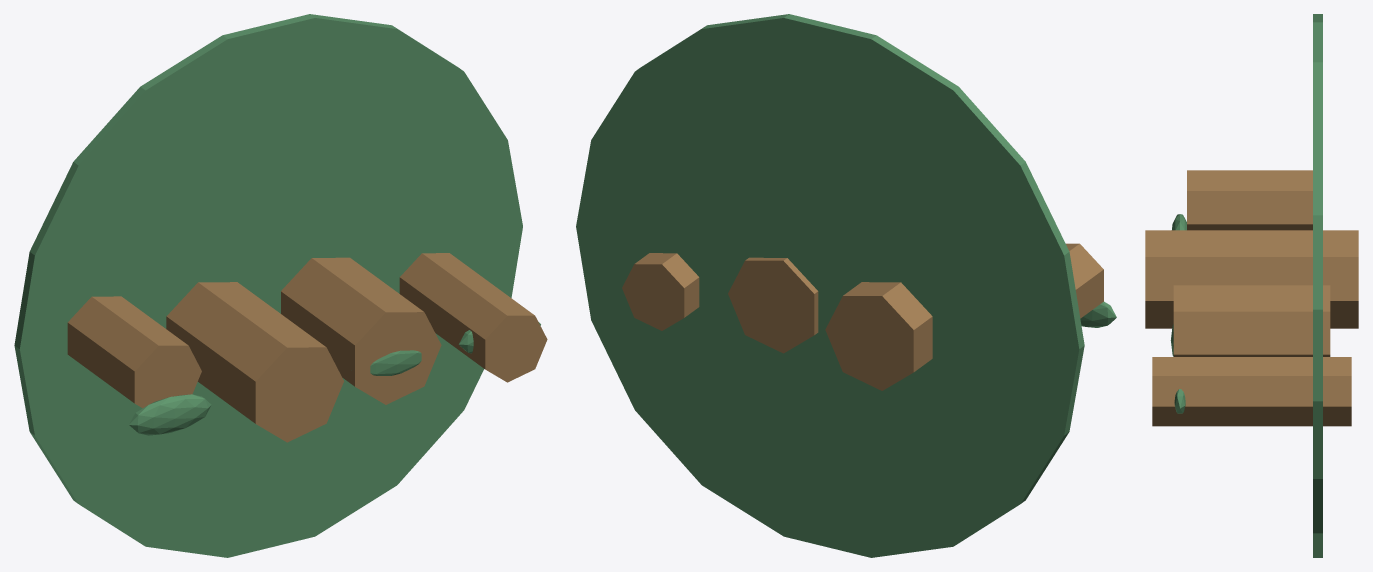
Rendered from 02_local_prop_cluster.glb.
The picture shows the model from 3 angles, left to right: view 1: azimuth 30°, elevation 25°; view 2: azimuth 150°, elevation 25°; view 3: azimuth 270°, elevation 25°; orthographic projection. The views are drawn at different scales.
Parts seen in each view (by area): view 1: scatter_base, root_stump_1, root_stump_2, root_stump_3, root_stump_0, moss_0, moss_2; view 2: scatter_base, root_stump_1, root_stump_2, root_stump_3, root_stump_0; view 3: root_stump_1, root_stump_3, root_stump_2, root_stump_0, scatter_base.
Part boxes in pixels (box(x1,y1,x2,y2)): scatter_base: box(14, 14, 522, 557); root_stump_1: box(166, 282, 343, 442); root_stump_2: box(281, 257, 441, 404); root_stump_3: box(399, 253, 547, 382); root_stump_0: box(67, 296, 201, 408); moss_0: box(129, 394, 211, 435); moss_2: box(351, 350, 421, 375); scatter_base: box(576, 14, 1084, 557); root_stump_1: box(825, 282, 932, 390); root_stump_2: box(728, 257, 818, 353); root_stump_3: box(622, 253, 699, 330); root_stump_0: box(1066, 243, 1103, 318); root_stump_1: box(1145, 230, 1358, 328); root_stump_3: box(1152, 357, 1351, 426); root_stump_2: box(1173, 285, 1330, 356); root_stump_0: box(1187, 170, 1312, 230); scatter_base: box(1313, 14, 1322, 557).
Size of the model in its own units: 1.9 by 1.87 by 0.7411.
